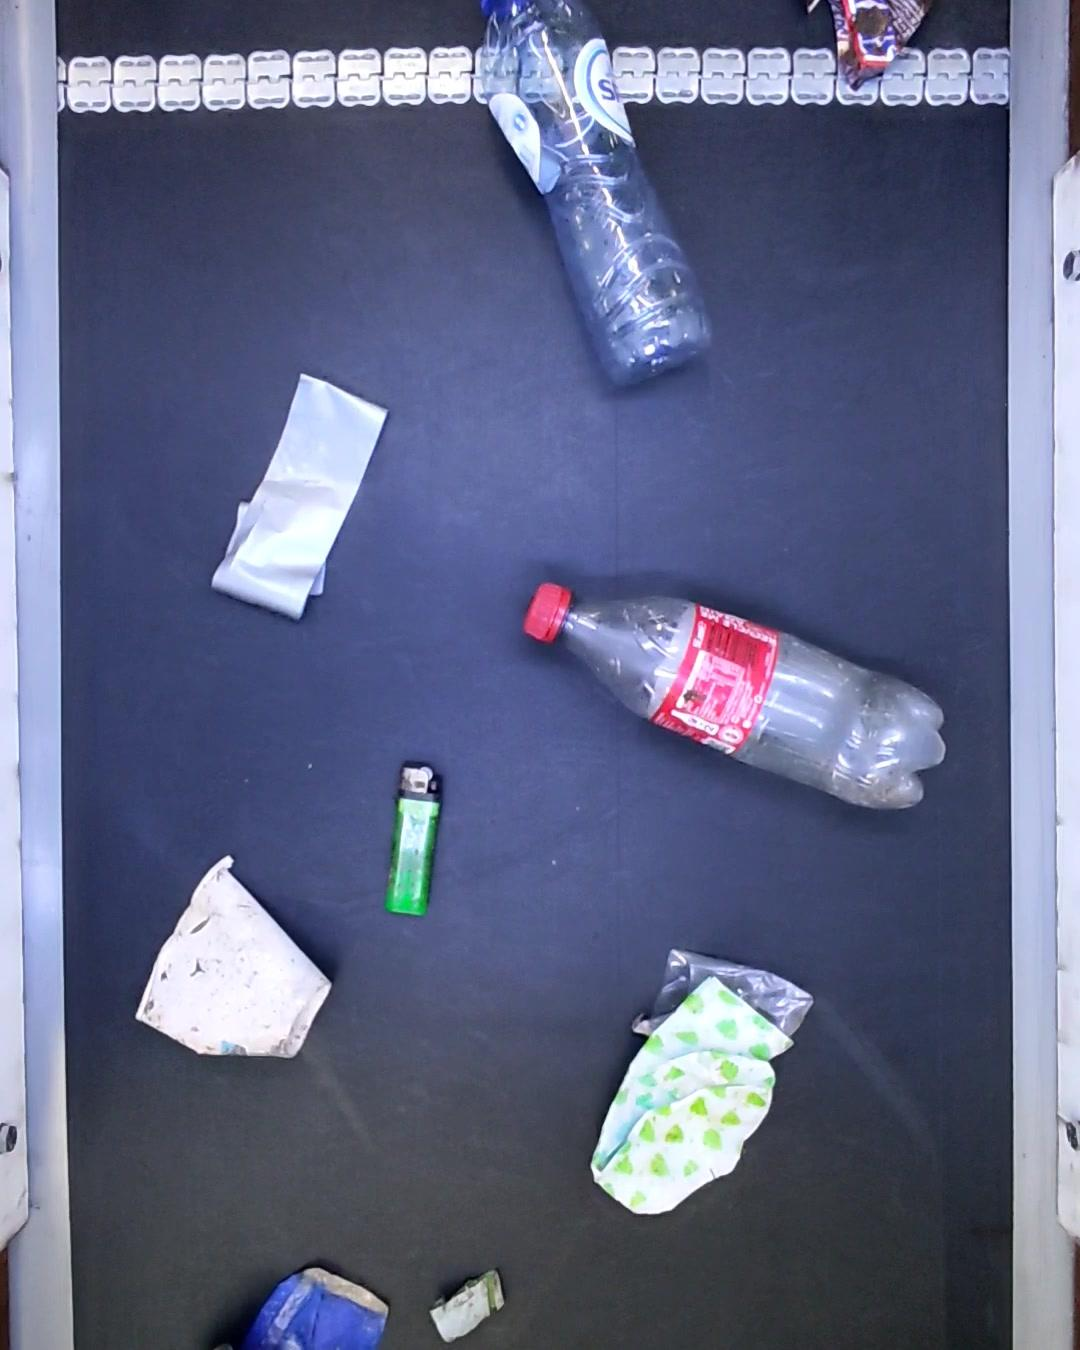Drankflessen - 1-2 liter: (525, 579, 959, 824), (471, 0, 725, 399)
Plastic folies of stukken daarvan 2.5- 50 cm: (627, 948, 819, 1051)
Snoep snack en chips verpakkingen: (811, 0, 930, 80)
